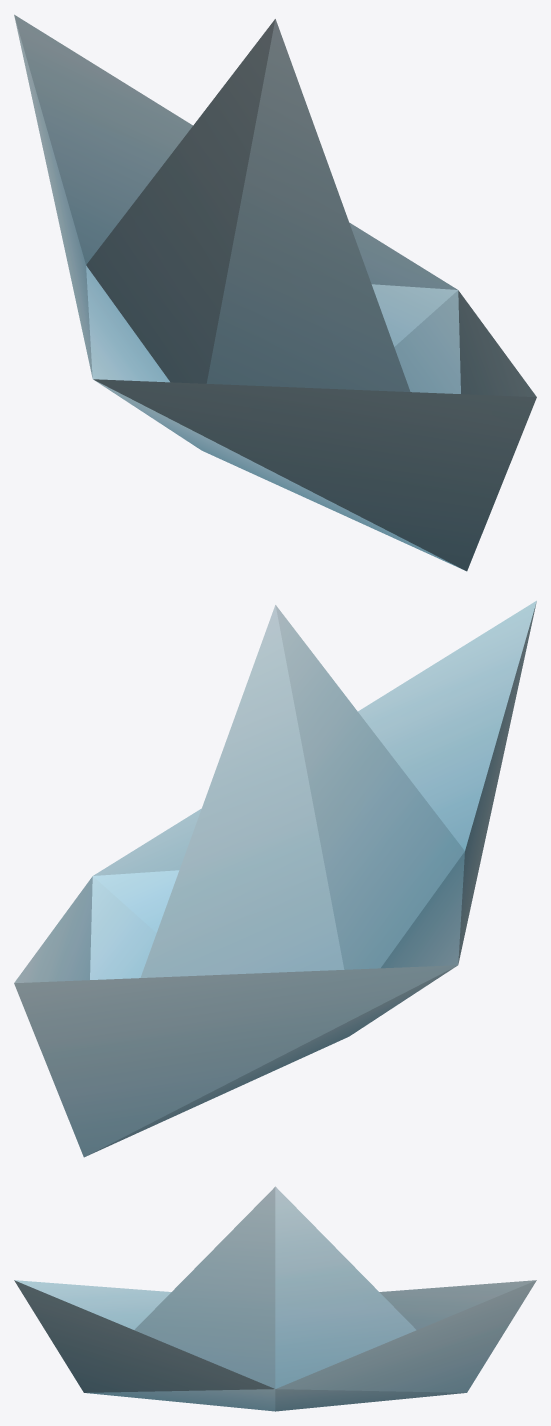
The model's file is paperShip.fbx.
3 renders of one model, top to bottom at view 1: azimuth 30°, elevation 25°; view 2: azimuth 150°, elevation 25°; view 3: azimuth 270°, elevation 25°, orthographic. The views are drawn at different scales.
Parts seen in each view (by area): view 1: paperShip; view 2: paperShip; view 3: paperShip.
Part boxes in pixels (x1=…): paperShip: x1=14, y1=14, x2=536, y2=571; paperShip: x1=14, y1=600, x2=536, y2=1157; paperShip: x1=14, y1=1186, x2=536, y2=1411.
Bounding box in the file's own units: 9.51 × 10.29 × 23.56.
